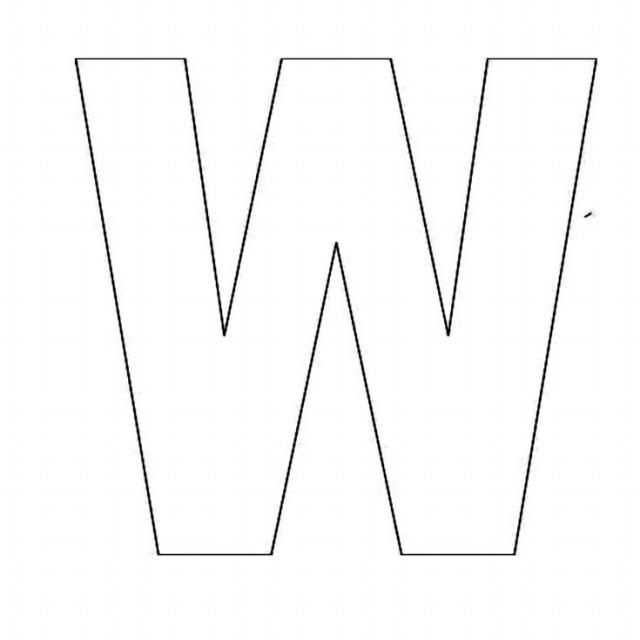W: (40, 27, 611, 602)
